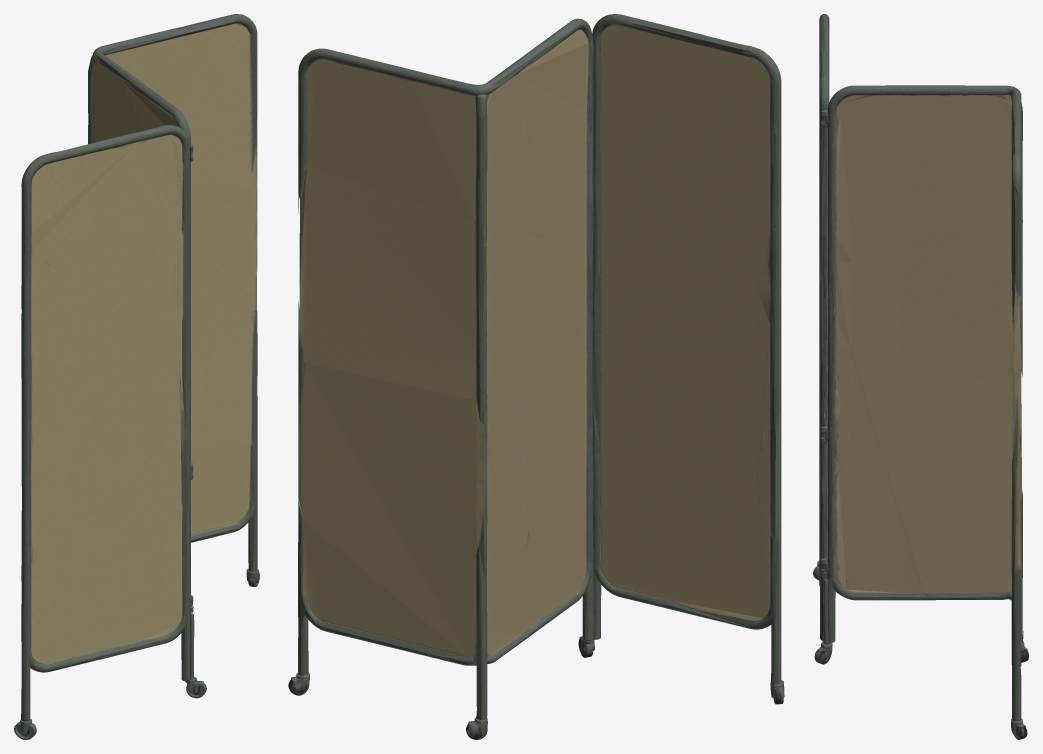
The model's file is paravento_A.glb.
The picture shows the model from 3 angles, left to right: view 1: azimuth 30°, elevation 25°; view 2: azimuth 150°, elevation 25°; view 3: azimuth 270°, elevation 25°; orthographic projection. The views are drawn at different scales.
Bounding box in the file's own units: 1.18 × 1.9 × 0.648.
1 material, 1 textured.
